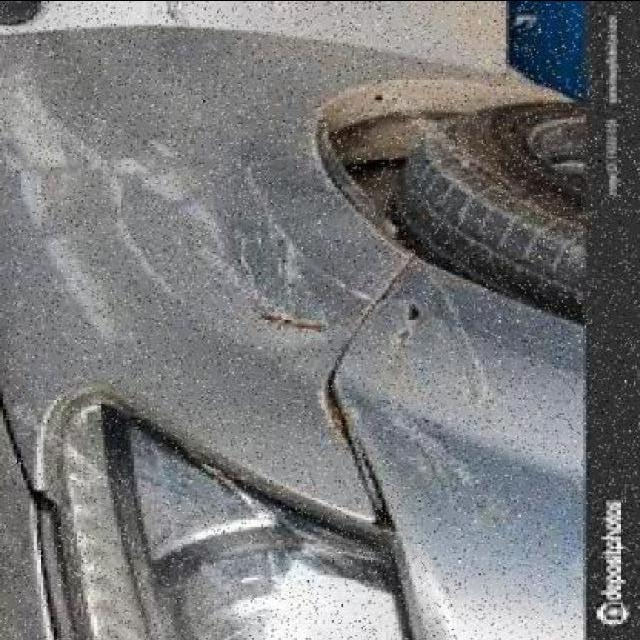fender-dent: (3, 41, 395, 434)
front-bumper-dent: (372, 259, 600, 640)
